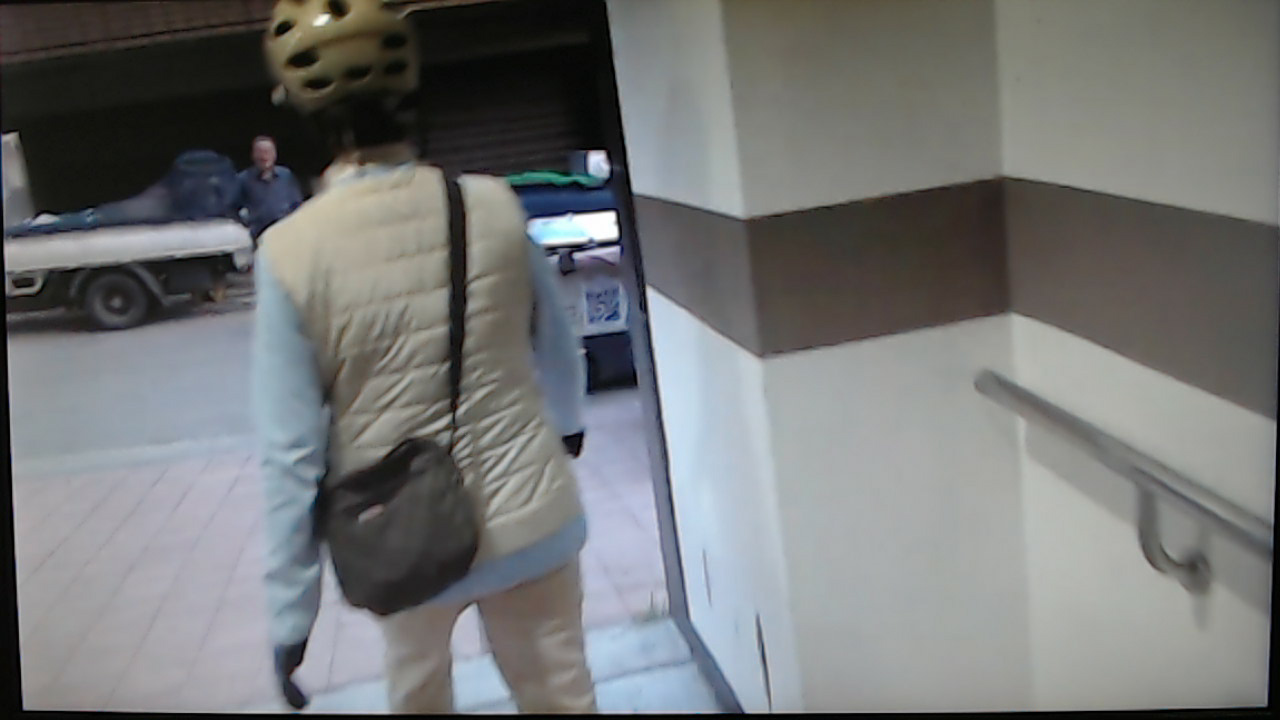Yakurut: (237, 6, 603, 712)
